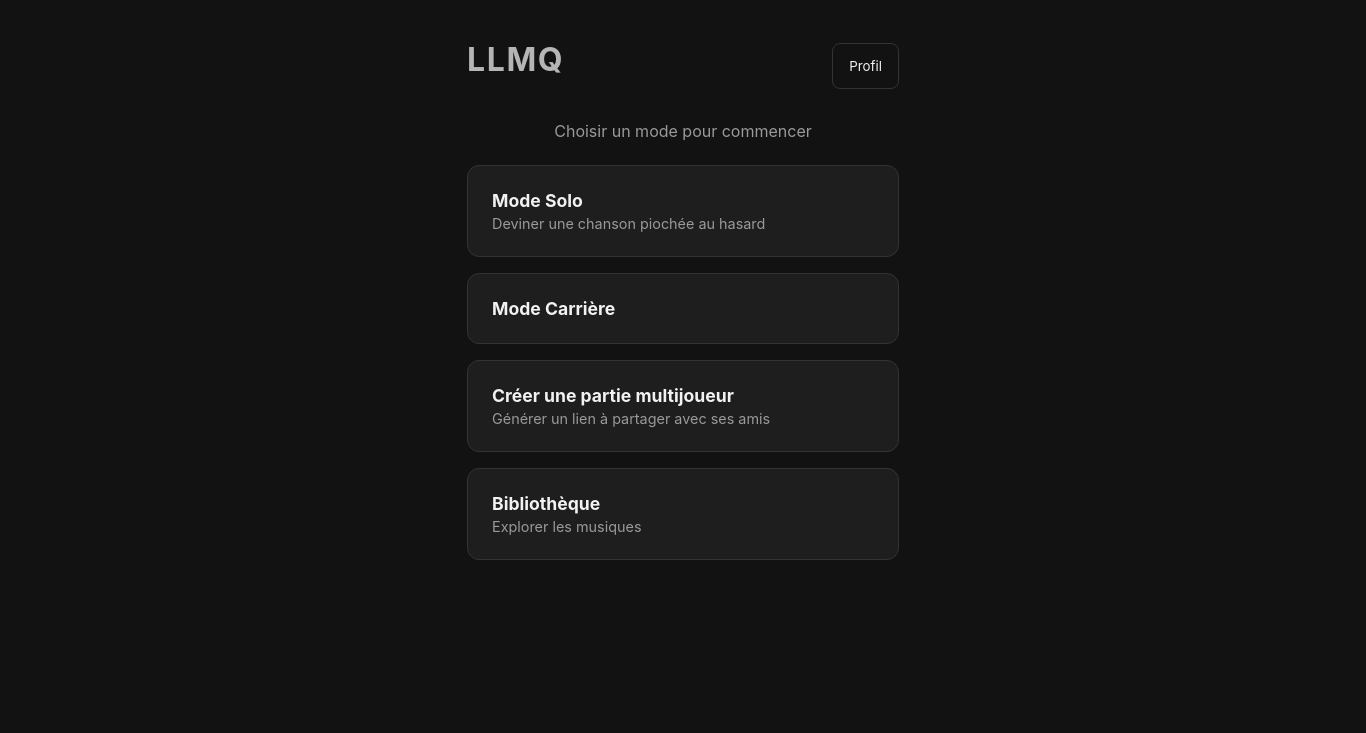
Test case: App — Mode Carrière › the guessing screen of a concert round is titled Concert
Click the button "Mode Carrière". click: point(554, 308)
box: [467,273,899,344]
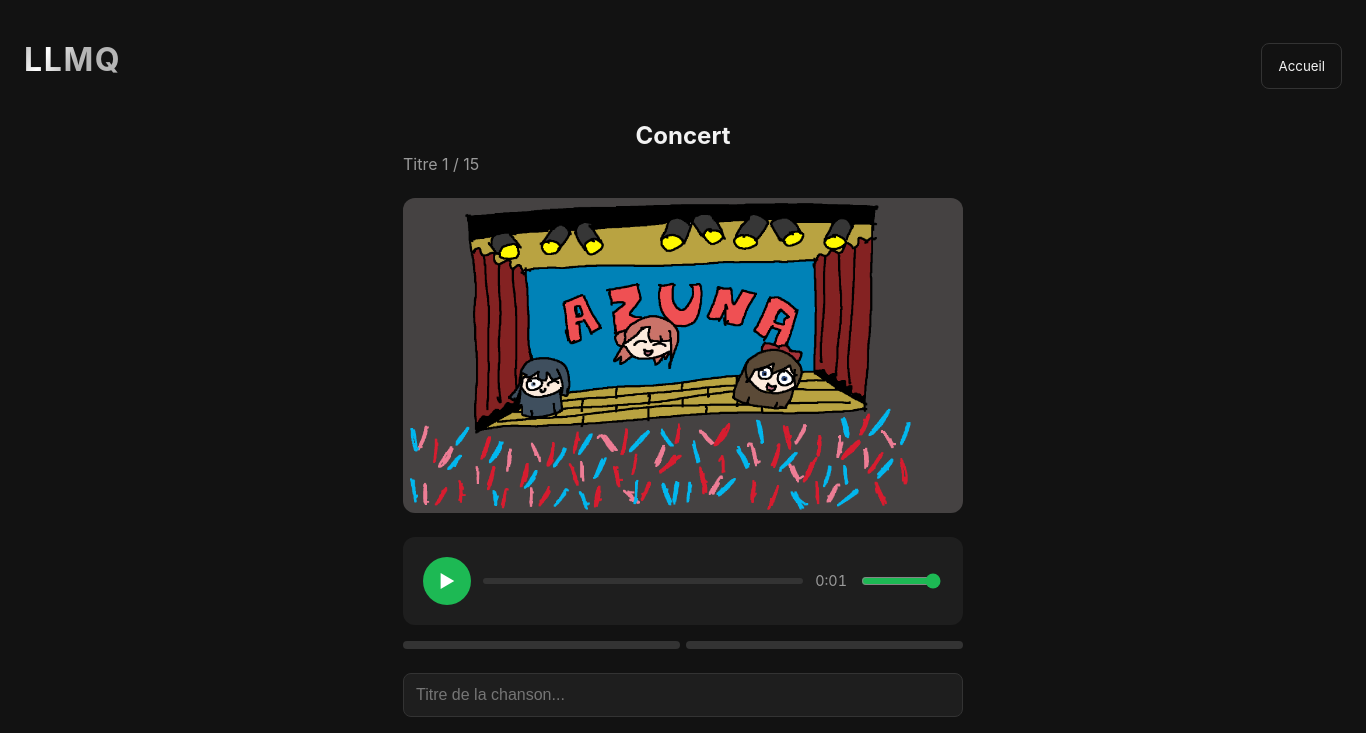
Result: the heading "Concert" is shown at [636,121,730,150]
